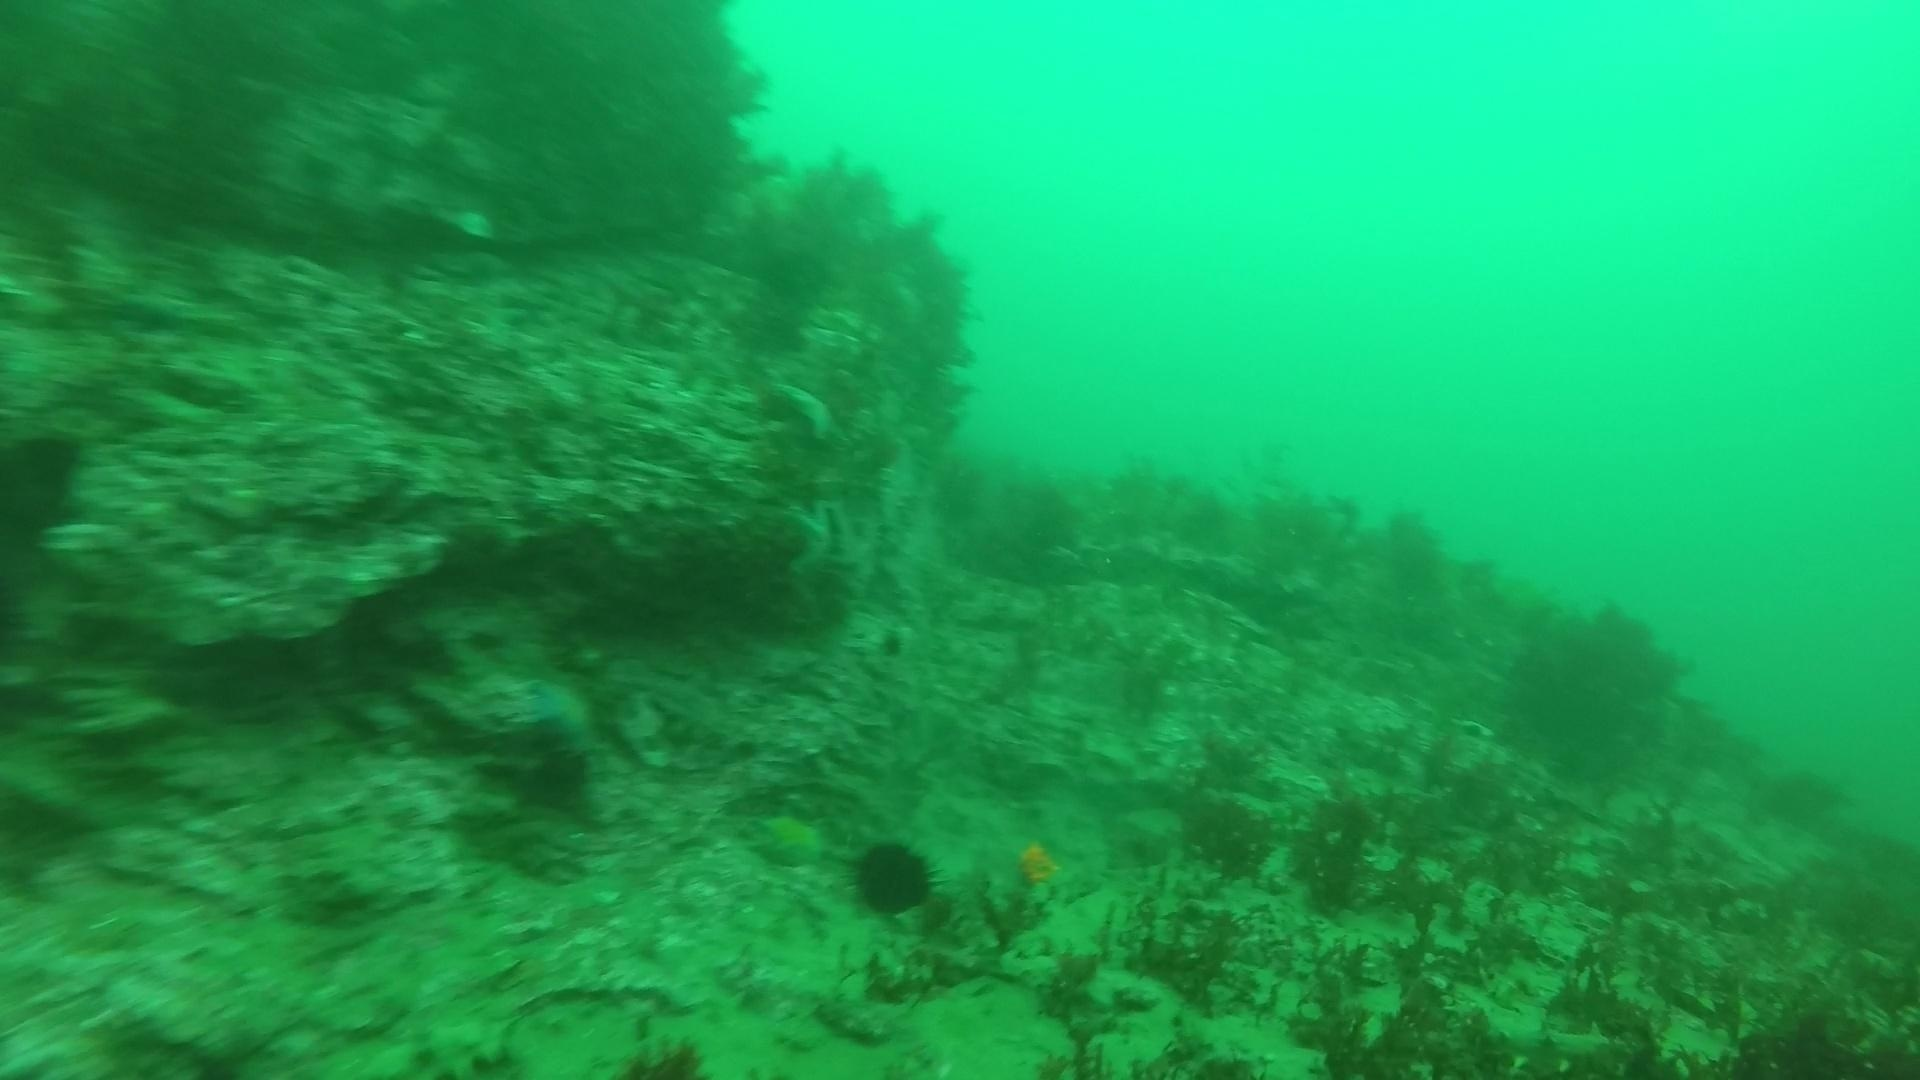echinus: (841, 831, 943, 923)
